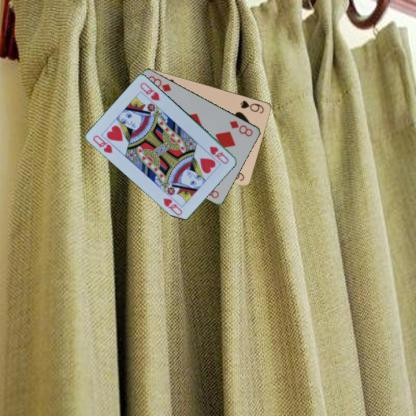6s: (238, 97, 265, 114)
8d: (227, 118, 254, 137)
Qh: (207, 144, 230, 166), (91, 132, 114, 154)
